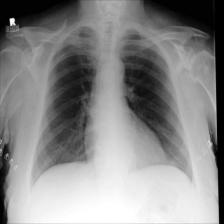normal: (28, 20, 196, 189)
